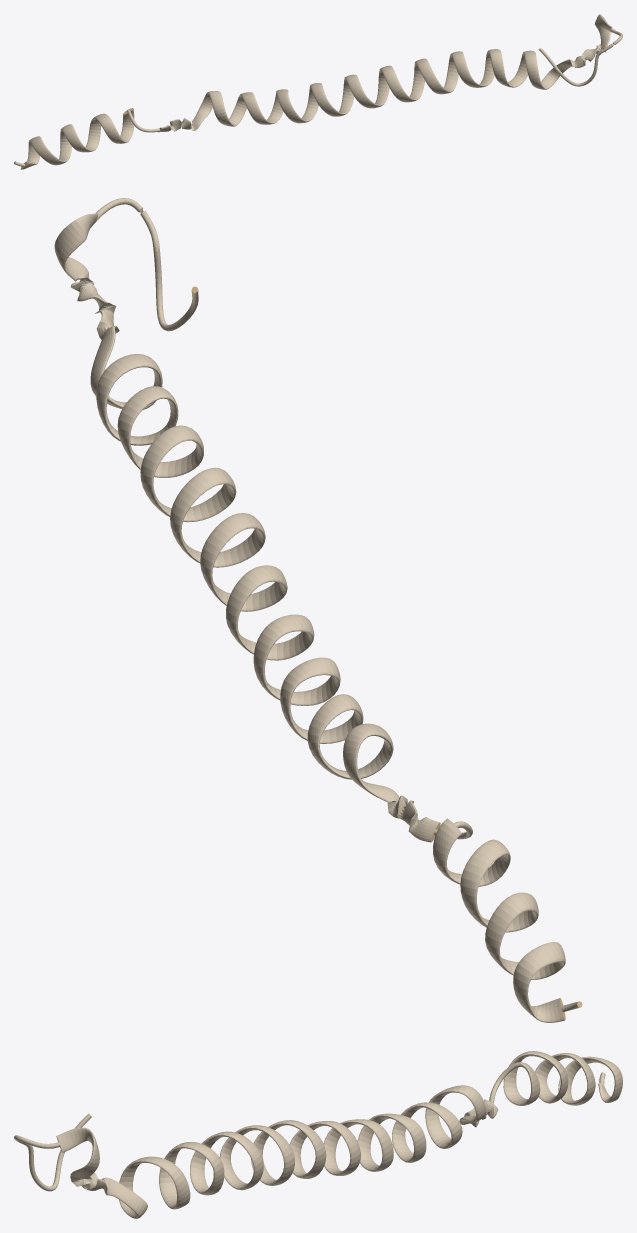
File: HelixHelixSheet.dae
The picture shows the model from 3 angles, top to bottom: view 1: azimuth 30°, elevation 25°; view 2: azimuth 150°, elevation 25°; view 3: azimuth 270°, elevation 25°; orthographic projection. The views are drawn at different scales.
Visible parts, largest first — view 1: Shape_IndexedTriangleStripSet_072; view 2: Shape_IndexedTriangleStripSet_072; view 3: Shape_IndexedTriangleStripSet_072.
Boxes of the visible parts, x1,y1,x2,y2 form: Shape_IndexedTriangleStripSet_072: (14,14,622,169); Shape_IndexedTriangleStripSet_072: (54,198,582,1022); Shape_IndexedTriangleStripSet_072: (14,1051,622,1218).
Bounding box in the file's own units: 76.71 × 61.05 × 30.62.
